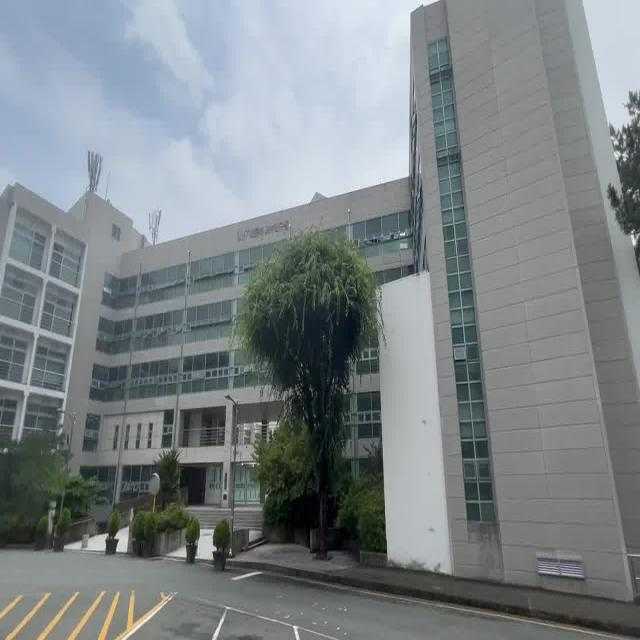building: (392, 0, 616, 572)
